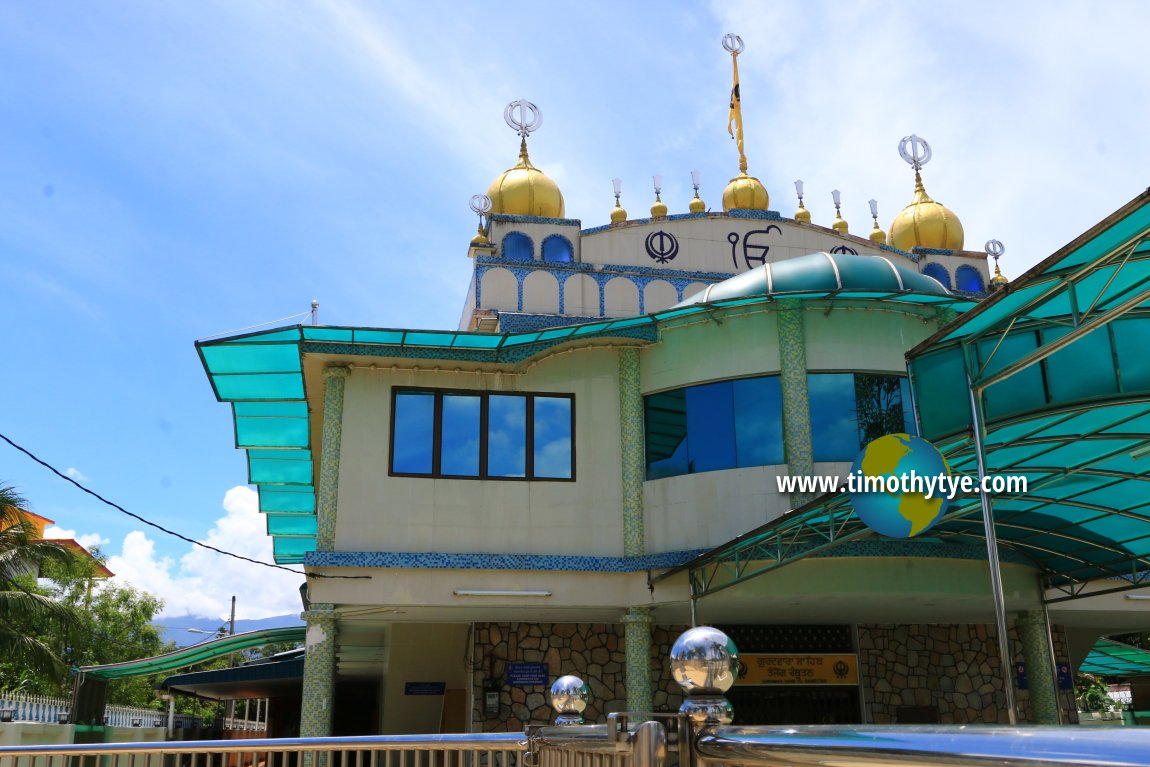Gurdwara: (272, 18, 1040, 682)
